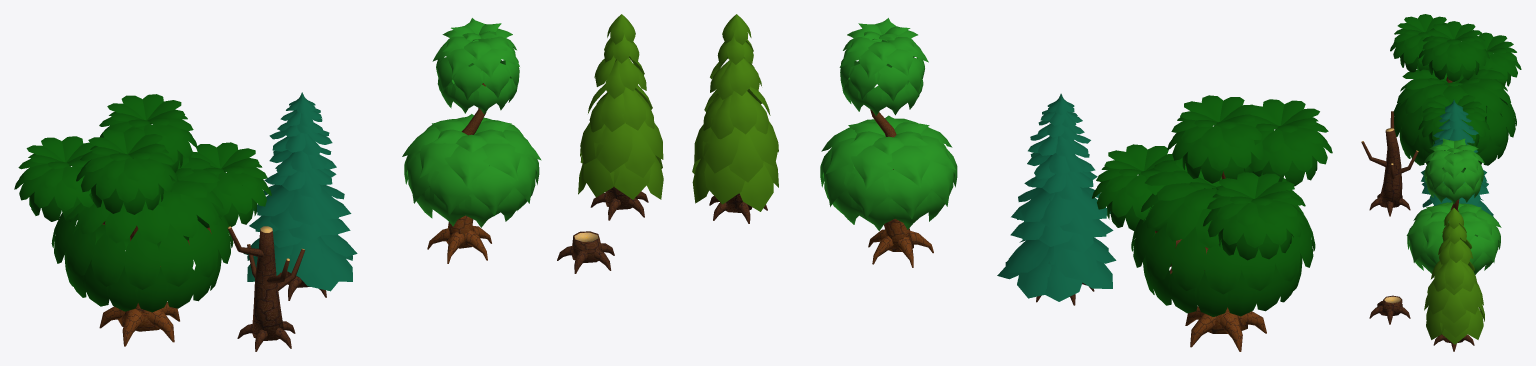
File: simple_cartoon_trees_1.glb
3 renders of one model, left to right at view 1: azimuth 30°, elevation 25°; view 2: azimuth 150°, elevation 25°; view 3: azimuth 270°, elevation 25°, orthographic. The views are drawn at different scales.
Parts seen in each view (by area): view 1: Leaves1, Leaves6, Leaves8.001, Leaves8, Leaves4, Leaves7, Leaves5, Leaves2, TreeSpruce.002, Leaves3, TreeOak, Tree3 (+2 smaller); view 2: Leaves1, Leaves6, Leaves8.001, Leaves8, Leaves5, Leaves7, Leaves3, Leaves4, Leaves2, TreeOak, Tree3, TreeSpruce.001; view 3: Leaves1, Leaves8, Leaves8.001, Leaves3, Leaves7, Leaves6, TreeSpruce.002, Leaves4, Leaves2, Leaves5, TreeSpruce.003, TreeSpruce.001.
Boxes of the visible parts, box(x1,y1,x2,y2) form: Leaves1: box(51, 155, 233, 312); Leaves6: box(243, 92, 357, 291); Leaves8.001: box(402, 114, 541, 227); Leaves8: box(578, 14, 663, 199); Leaves4: box(76, 128, 178, 214); Leaves7: box(432, 18, 519, 114); Leaves5: box(14, 136, 95, 221); Leaves2: box(191, 142, 271, 227); TreeSpruce.002: box(227, 226, 305, 351); Leaves3: box(99, 94, 197, 175); TreeOak: box(99, 221, 211, 346); Tree3: box(427, 83, 491, 263); Leaves1: box(1131, 157, 1315, 316); Leaves6: box(997, 93, 1116, 301); Leaves8.001: box(820, 115, 957, 230); Leaves8: box(692, 14, 778, 211); Leaves5: box(1203, 172, 1306, 260); Leaves7: box(839, 18, 928, 115); Leaves3: box(1167, 95, 1263, 183); Leaves4: box(1244, 99, 1332, 186); Leaves2: box(1092, 144, 1173, 231); TreeOak: box(1155, 171, 1266, 351); Tree3: box(868, 109, 933, 267); TreeSpruce.001: box(709, 193, 767, 223); Leaves1: box(1393, 64, 1516, 165); Leaves8: box(1424, 208, 1484, 344); Leaves8.001: box(1406, 202, 1501, 276); Leaves3: box(1418, 21, 1489, 81); Leaves7: box(1423, 138, 1484, 204); Leaves6: box(1421, 99, 1498, 222); TreeSpruce.002: box(1361, 111, 1418, 216); Leaves4: box(1390, 14, 1447, 72); Leaves2: box(1418, 95, 1489, 146); Leaves5: box(1479, 32, 1521, 88); TreeSpruce.003: box(1369, 295, 1410, 324); TreeSpruce.001: box(1433, 334, 1474, 351).
Bounding box in the file's own units: 7.7 × 2.63 × 2.5.
6 materials, 2 textured.
